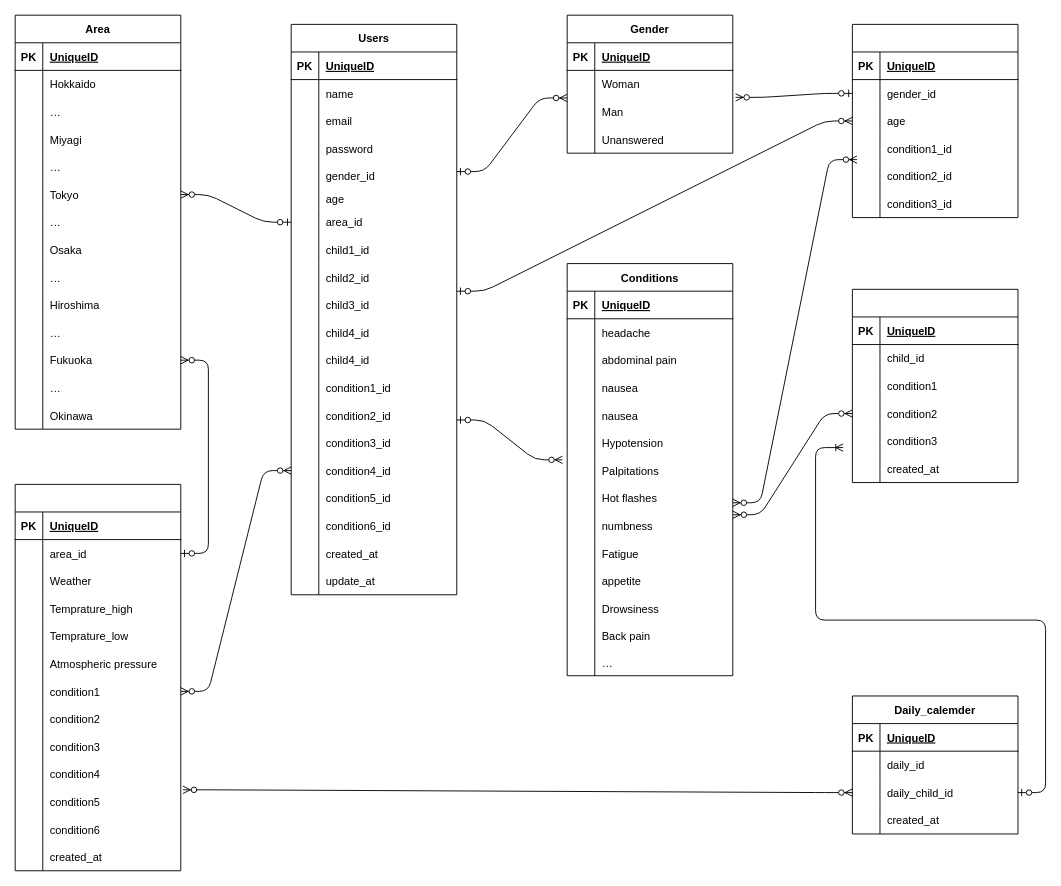
The diagram is 1061 pixels wide and 886 high, and some of its shapes have lost their labels. Here are the shapes that lost their labels. From the top down, the box of each, then its label:
(851, 23, 1018, 218): Child
(851, 288, 1018, 483): Daily_child
(14, 483, 181, 871): Daily
